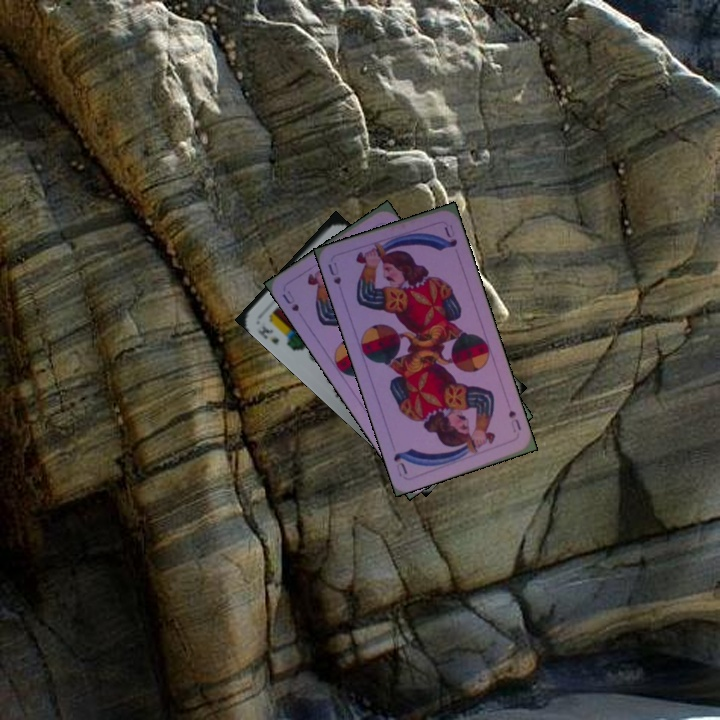EK: (253, 322, 281, 347)
SU: (278, 286, 302, 314), (504, 406, 524, 435), (324, 259, 344, 287)
